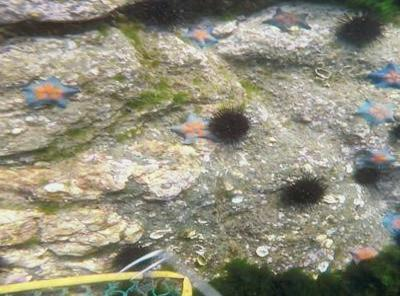urchin: (209, 106, 252, 144), (112, 242, 155, 275), (340, 14, 383, 46), (282, 175, 324, 207), (353, 164, 380, 187)
